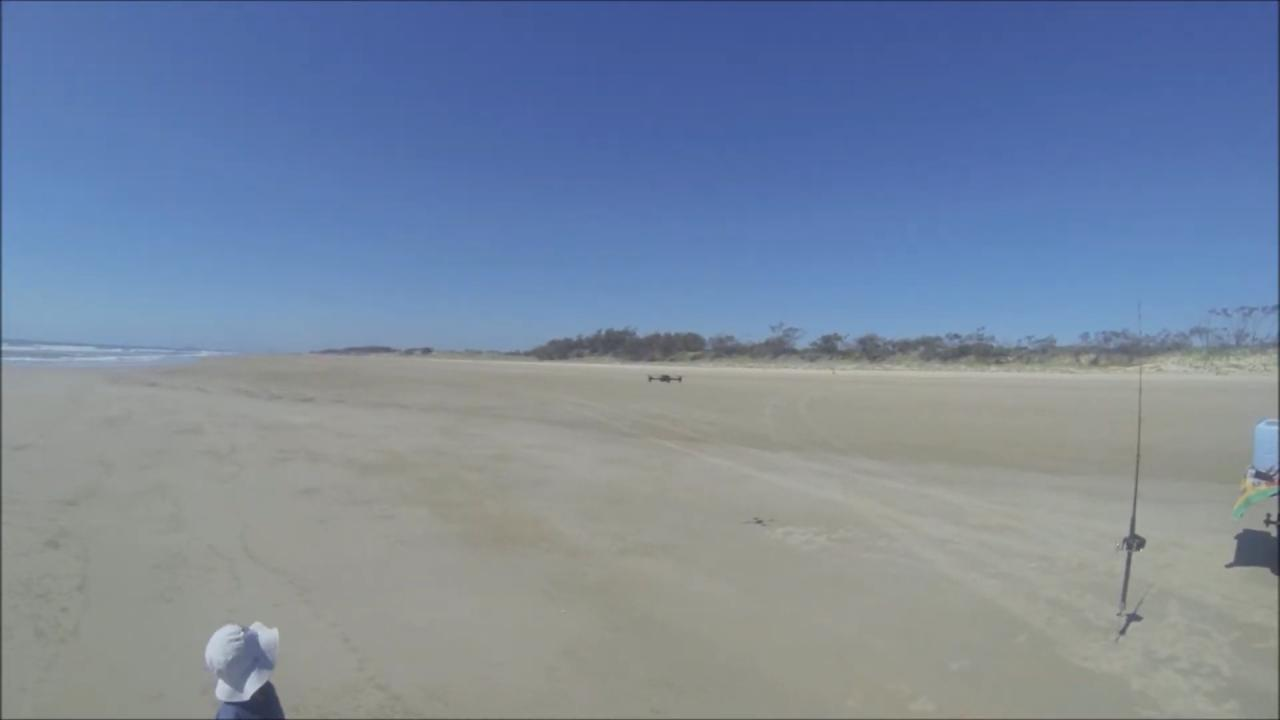Drone: (637, 363, 694, 390)
